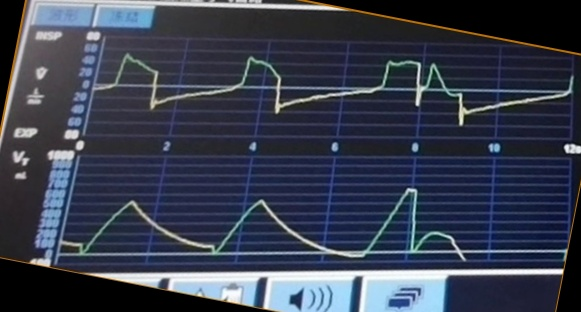Double_Triggering Flow: (102, 46, 534, 131)
Double_Triggering Volume: (75, 182, 486, 263)
